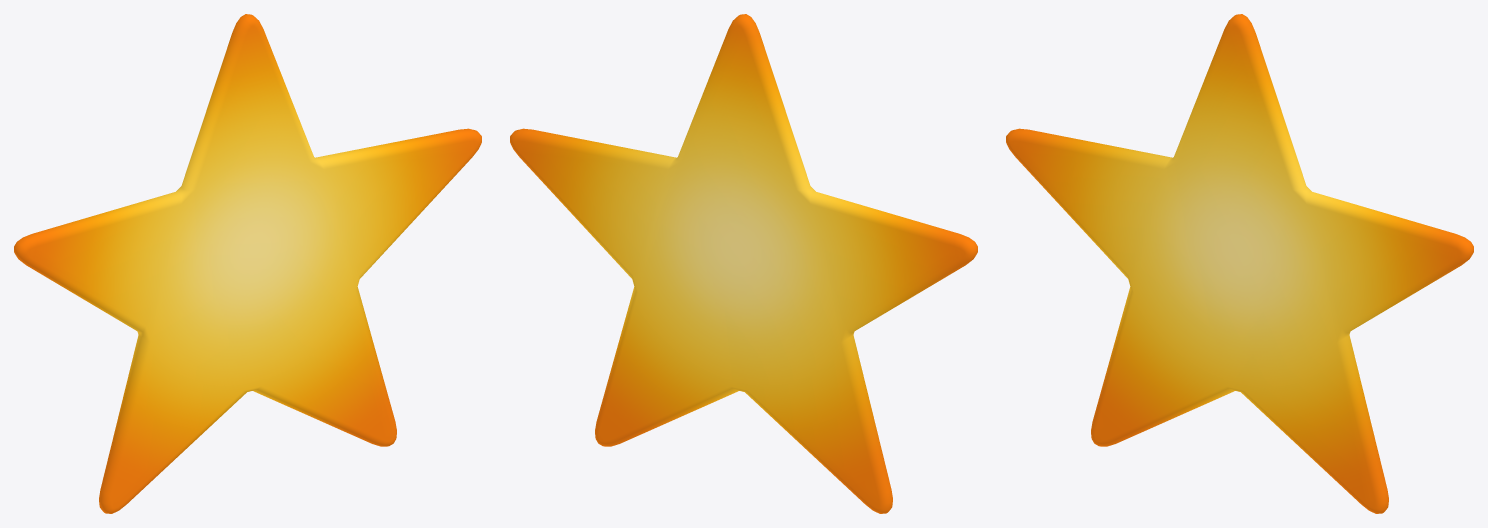
The model's file is decor.glb.
3 renders of one model, left to right at view 1: azimuth 30°, elevation 25°; view 2: azimuth 150°, elevation 25°; view 3: azimuth 330°, elevation 25°, orthographic.
Parts seen in each view (by area): view 1: obj_cosmic-star_1; view 2: obj_cosmic-star_1; view 3: obj_cosmic-star_1.
Part boxes in pixels (left/top/right/bottom): obj_cosmic-star_1: left=14, top=14, right=481, bottom=513; obj_cosmic-star_1: left=510, top=14, right=977, bottom=513; obj_cosmic-star_1: left=1006, top=14, right=1473, bottom=513.
Bounding box in the file's own units: 0.9608 × 0.9171 × 0.0325.
1 material, 1 textured.
